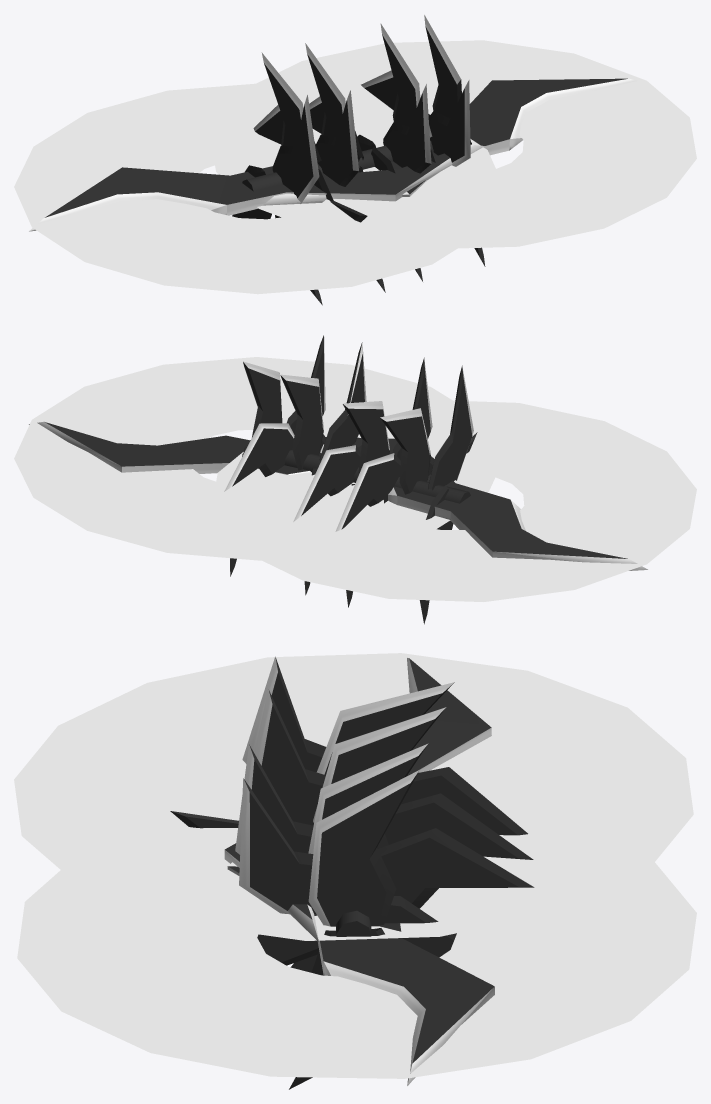
The model's file is spike.glb.
3 views of the same model, one above another, from view 1: azimuth 30°, elevation 25°; view 2: azimuth 150°, elevation 25°; view 3: azimuth 270°, elevation 25° (orthographic). The views are drawn at different scales.
Parts seen in each view (by area): view 1: Jaws_1_007, Jaws_1_006, Spikes, Spike_Holder_001; view 2: Jaws_1_007, Jaws_1_006, Spikes, Spike_Holder_001; view 3: Jaws_1_007, Jaws_1_006, Spikes, Spike_Holder_001.
Part boxes in pixels (box(x1,y1,x2,y2)): Jaws_1_007: box(14, 83, 505, 294); Jaws_1_006: box(215, 40, 696, 248); Spikes: box(232, 15, 485, 305); Spike_Holder_001: box(242, 139, 470, 191); Jaws_1_007: box(210, 400, 696, 601); Jaws_1_006: box(14, 357, 495, 560); Spikes: box(224, 335, 477, 624); Spike_Holder_001: box(243, 440, 470, 503); Jaws_1_007: box(14, 653, 693, 941); Jaws_1_006: box(17, 862, 696, 1085); Spikes: box(170, 656, 534, 1089); Spike_Holder_001: box(336, 910, 371, 936).
Bounding box in the file's own units: 5.06 × 1.73 × 3.45.
2 materials, 2 textured.
